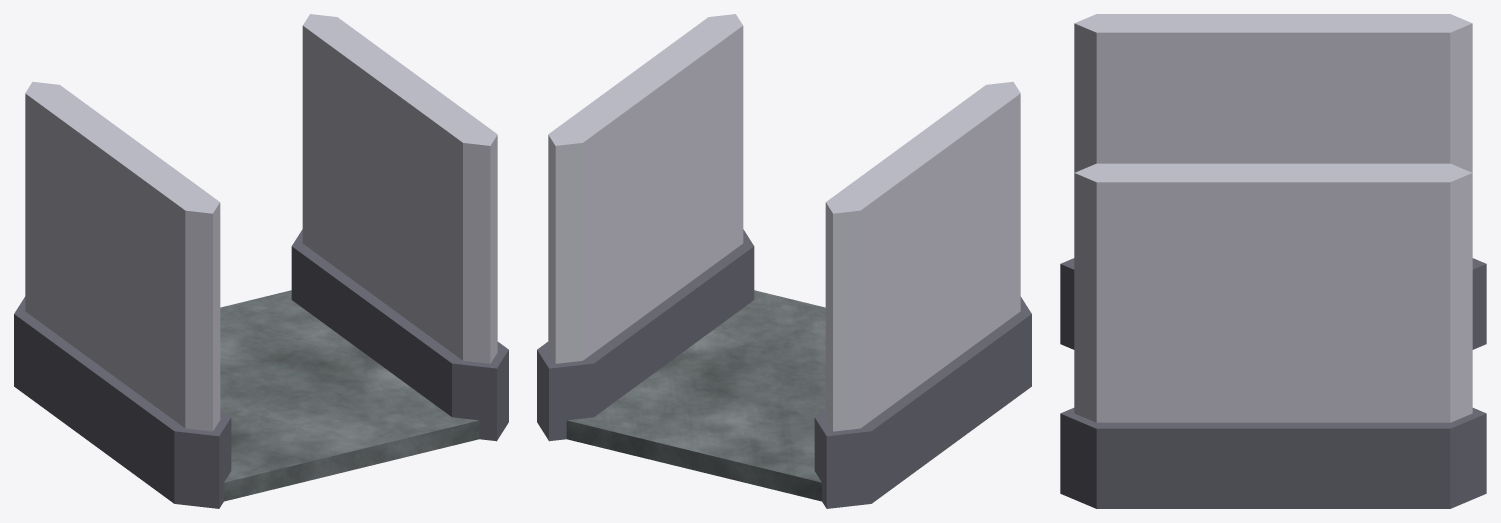
File: sm_hallway_02.fbx
3 views of the same model, side by side, from view 1: azimuth 30°, elevation 25°; view 2: azimuth 150°, elevation 25°; view 3: azimuth 270°, elevation 25° (orthographic). The views are drawn at different scales.
Visible parts, largest first — view 1: wall_01_168, wall_01_167, floor_square_169; view 2: wall_01_168, wall_01_167, floor_square_169; view 3: wall_01_167, wall_01_168.
Part boxes in pixels (x1,y1,x2,y2): wall_01_168: (14, 81, 231, 508); wall_01_167: (291, 14, 508, 441); floor_square_169: (220, 290, 479, 501); wall_01_168: (814, 81, 1031, 508); wall_01_167: (537, 14, 754, 441); floor_square_169: (566, 290, 825, 501); wall_01_167: (1060, 163, 1486, 508); wall_01_168: (1060, 14, 1486, 349).
Size of the model in its own units: 12.05 by 10 by 12.05.
